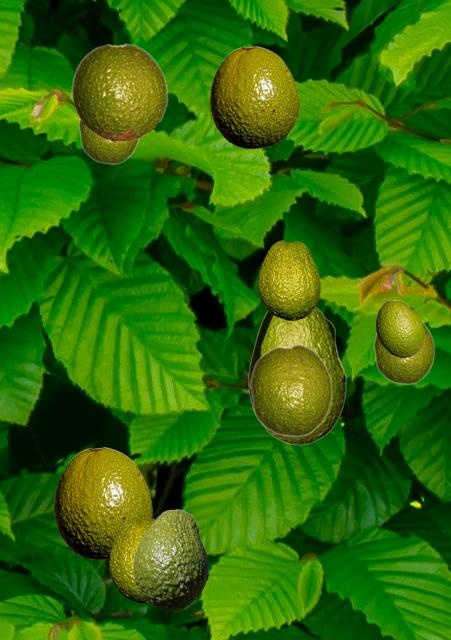avocado: (248, 307, 345, 444), (54, 447, 151, 558), (71, 43, 168, 141), (210, 46, 298, 147), (249, 343, 332, 437), (133, 509, 207, 610), (258, 240, 319, 319), (373, 320, 434, 384), (109, 517, 154, 602), (78, 119, 139, 164), (376, 300, 423, 356)
